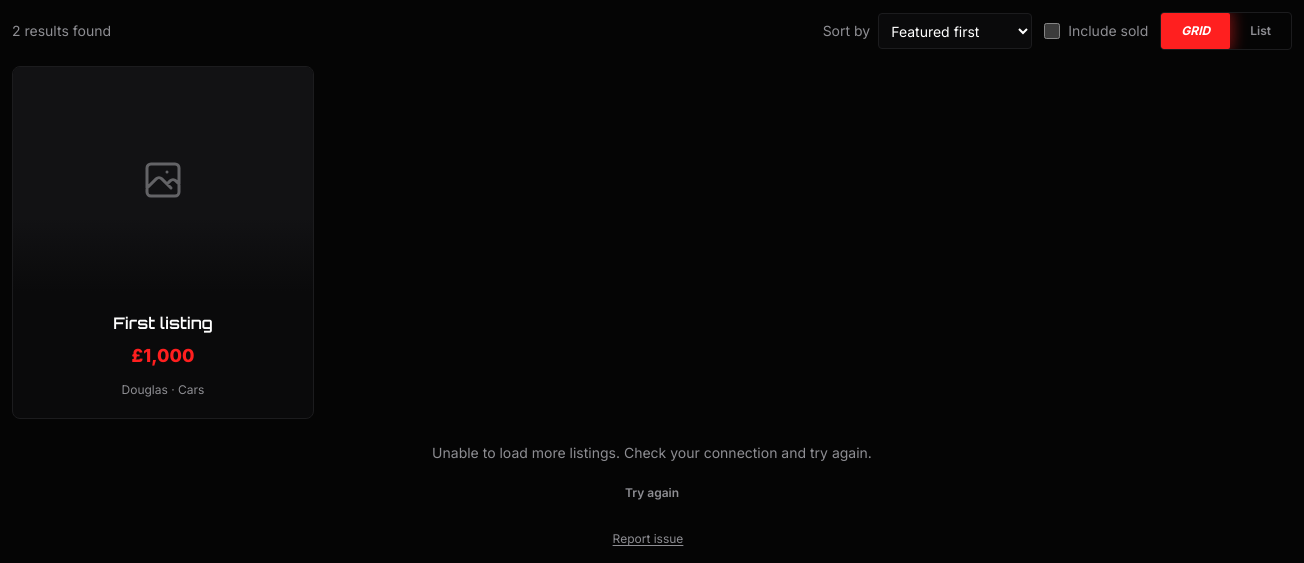
Test: ListingResultsClient pagination › shows a retryable error when loading more listings fails
expect the message shows "Unable to load more listings": met, box [432,444,872,461]
Click the button "Try again". click: (652, 493)
box: [605,475,699,511]
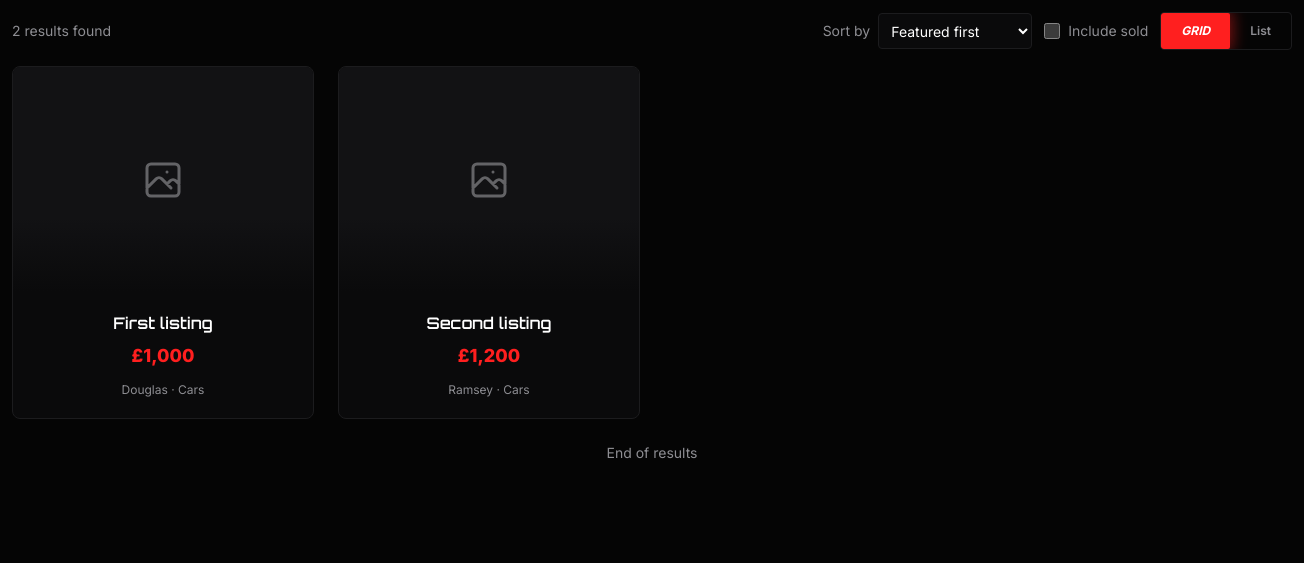
expect the heading "Second listing" is shown: met, box [426,312,552,334]
